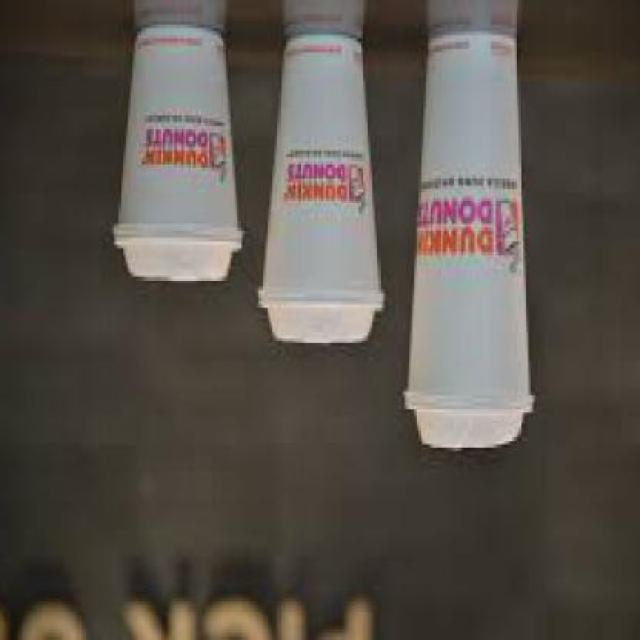PAPER: (408, 32, 535, 406), (263, 34, 386, 300), (121, 24, 247, 248)
